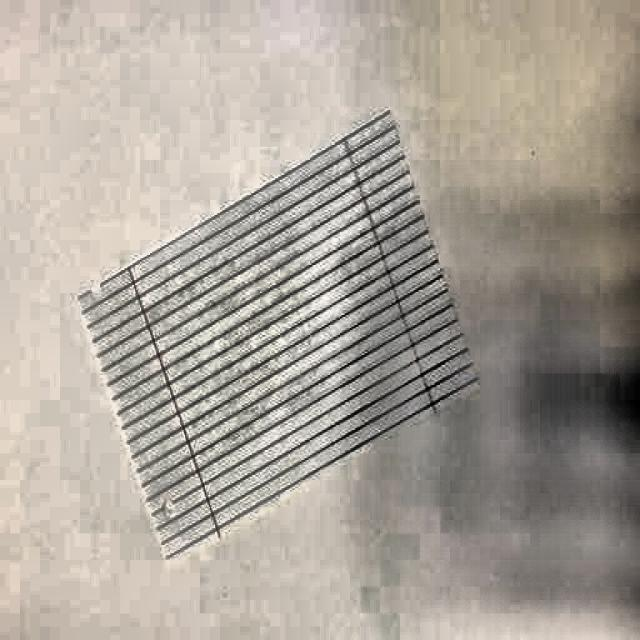paper: (86, 109, 468, 505)
